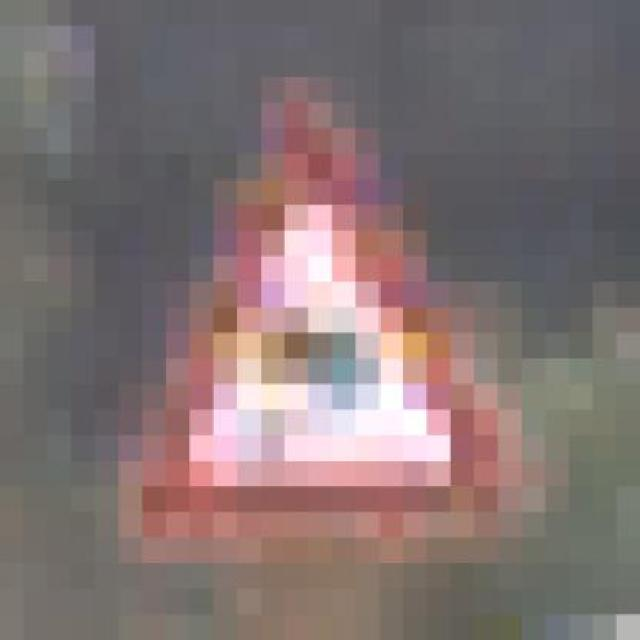Slippery Road Ahead: (47, 51, 545, 563)
